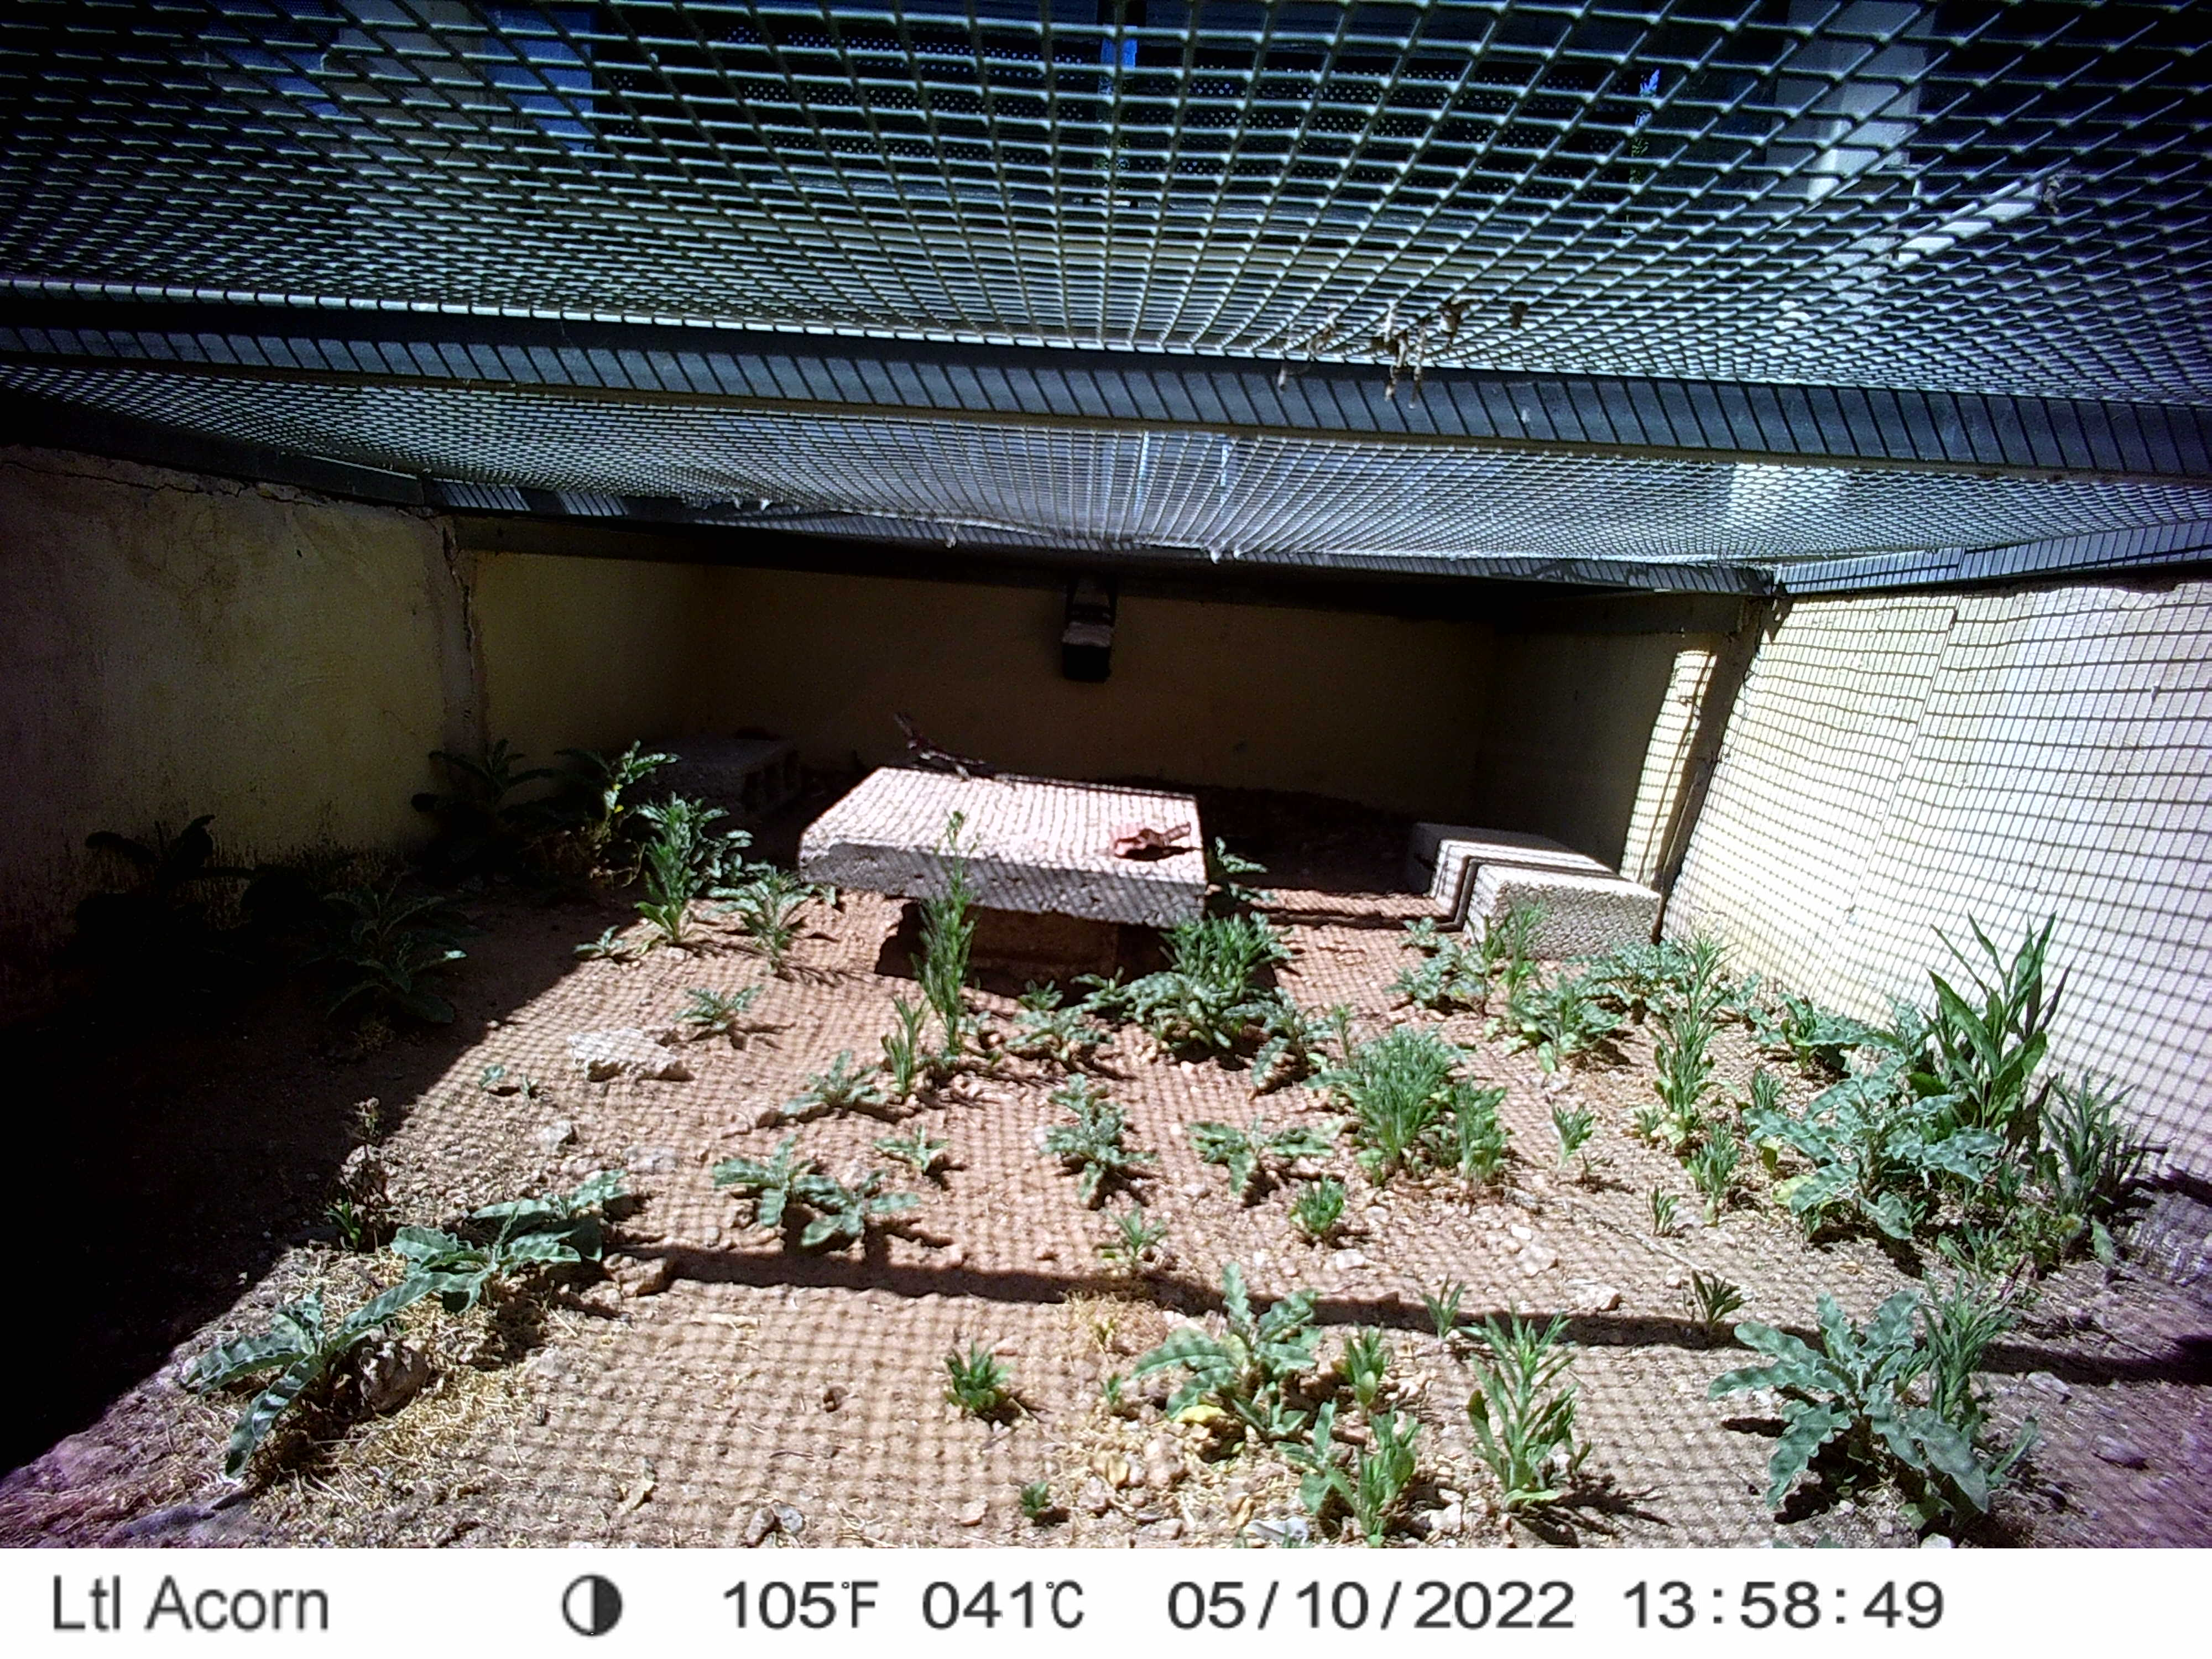lizard: (883, 704, 1022, 786)
